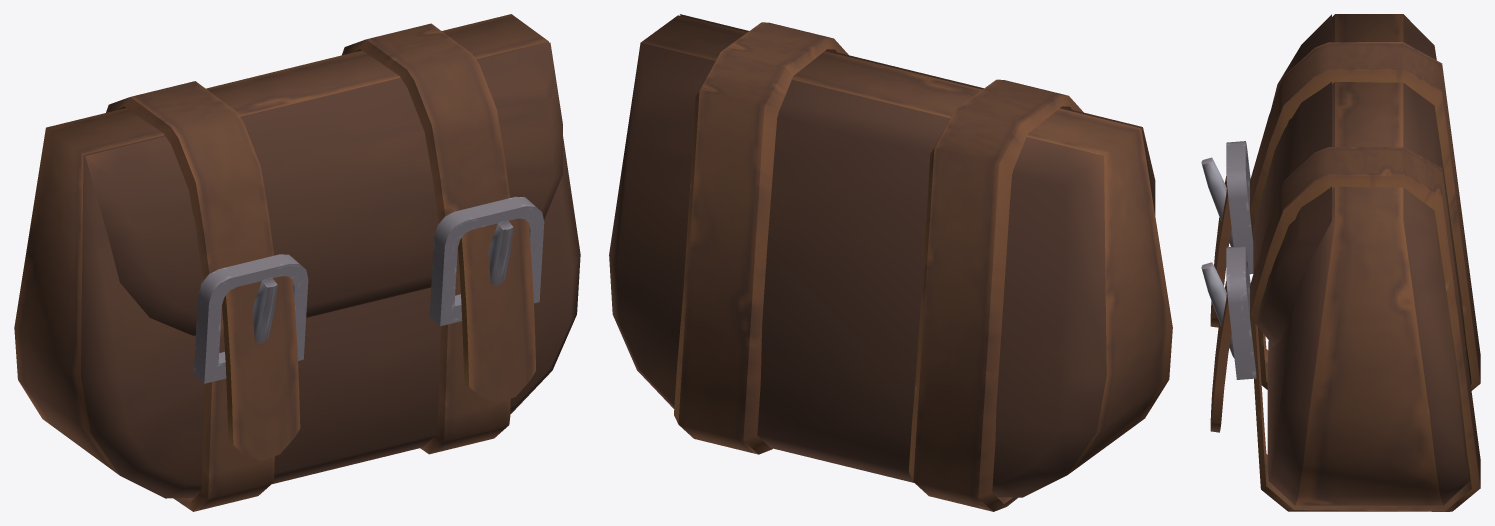
The model's file is pouch_large.glb.
The picture shows the model from 3 angles, left to right: view 1: azimuth 30°, elevation 25°; view 2: azimuth 150°, elevation 25°; view 3: azimuth 270°, elevation 25°; orthographic projection. The views are drawn at different scales.
Visible parts, largest first — view 1: Pouch_Large; view 2: Pouch_Large; view 3: Pouch_Large.
Part boxes in pixels (x1=…): Pouch_Large: x1=14, y1=14, x2=580, y2=511; Pouch_Large: x1=609, y1=14, x2=1172, y2=511; Pouch_Large: x1=1201, y1=14, x2=1480, y2=511.
Bounding box in the file's own units: 0.2255 × 0.1591 × 0.1198.
Materials: 2 (2 with a texture image).
